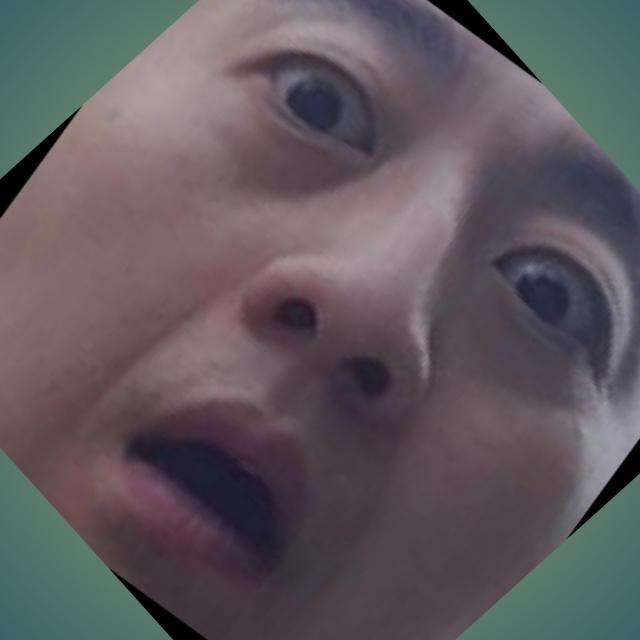Surprised: (88, 0, 625, 629)
